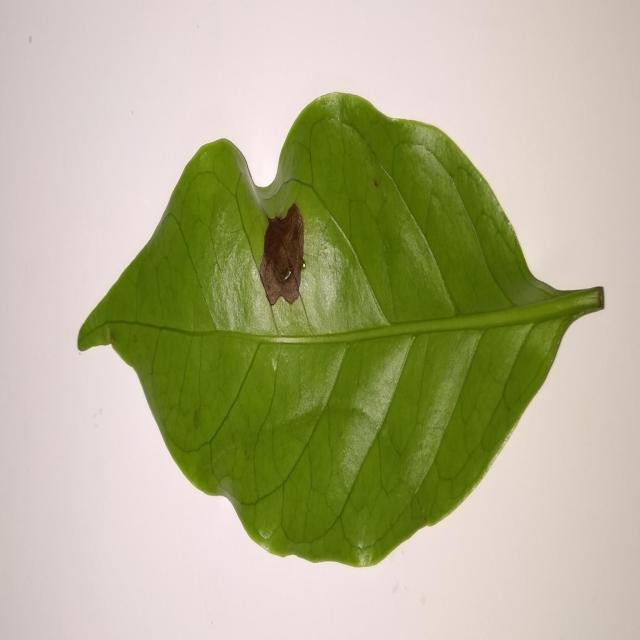Enfermedad-Antracnosis: (76, 92, 605, 571)
